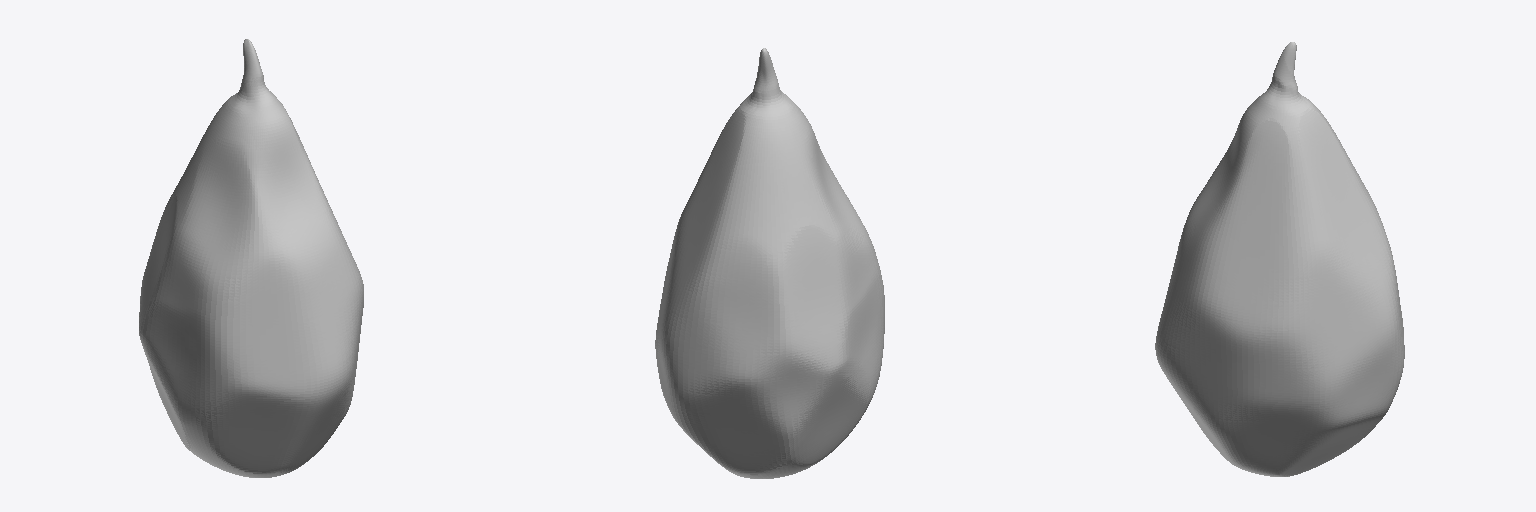
The model's file is high poly dont use.OBJ.
3 views of the same model, side by side, from view 1: azimuth 30°, elevation 25°; view 2: azimuth 150°, elevation 25°; view 3: azimuth 270°, elevation 25° (orthographic).
Visible parts, largest first — view 1: Group65055; view 2: Group65055; view 3: Group65055.
Boxes of the visible parts, box(x1,y1,x2,y2) form: Group65055: box(139, 39, 363, 477); Group65055: box(655, 48, 884, 478); Group65055: box(1155, 42, 1404, 476).
Bounding box in the file's own units: 4.59 × 9.88 × 5.24.